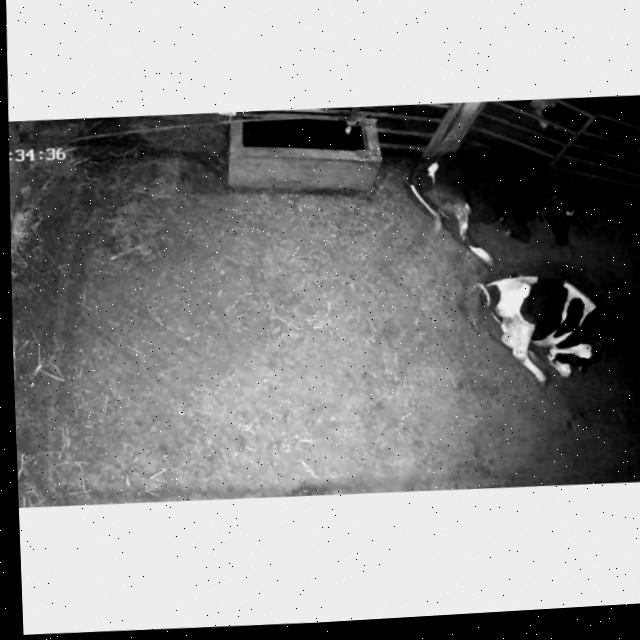lay: (399, 135, 589, 278), (462, 263, 626, 401)
